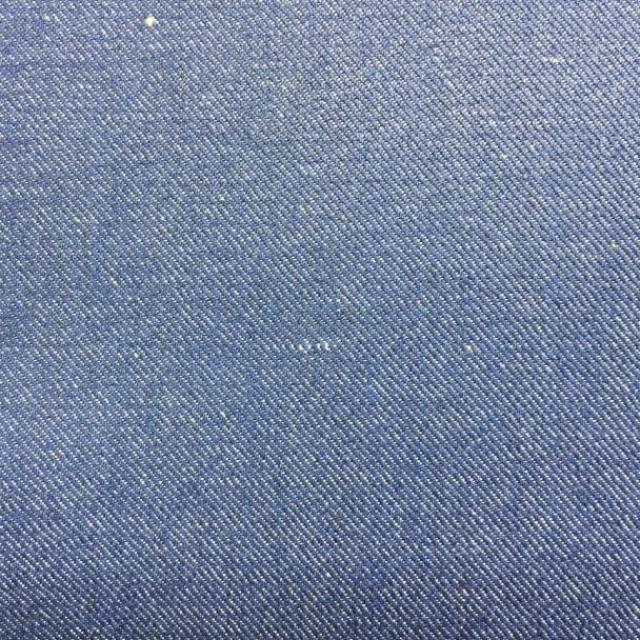Knot: (273, 341, 338, 355), (143, 15, 158, 27)
